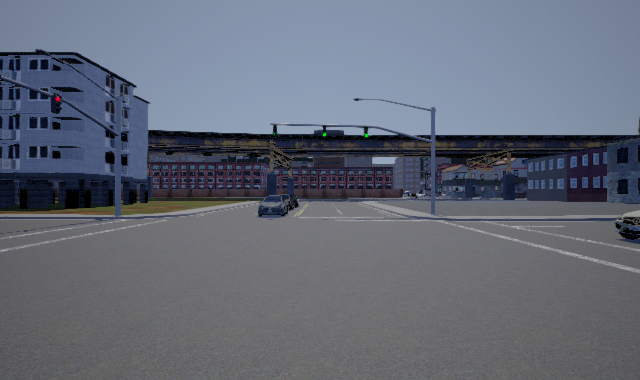traffic_light: (51, 95, 62, 114), (273, 124, 277, 137), (364, 126, 368, 138), (323, 125, 326, 138)
vehicle: (258, 194, 299, 217), (614, 210, 640, 240)
